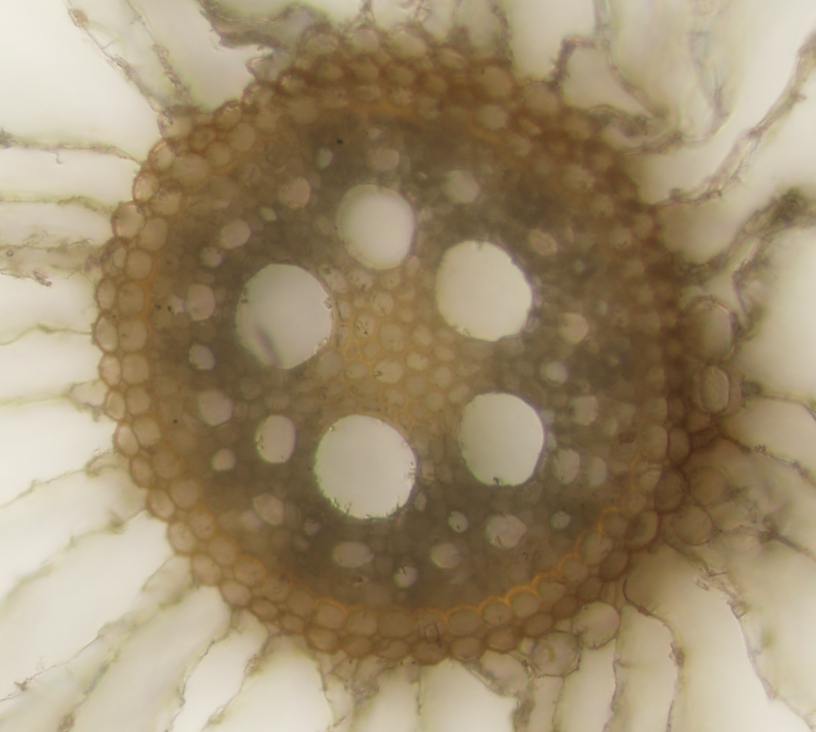lm: (314, 414, 416, 520), (235, 261, 333, 370), (433, 239, 531, 343), (457, 391, 544, 487), (336, 181, 415, 270)
